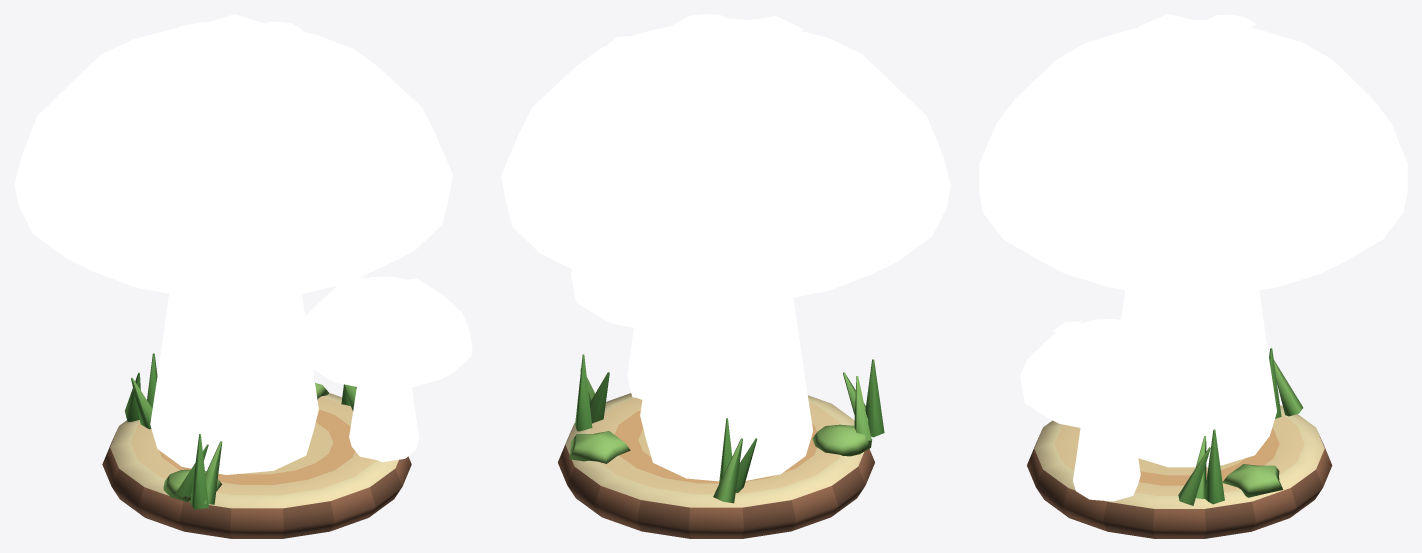
The model's file is furn-mushroomLamp.glb.
The picture shows the model from 3 angles, left to right: view 1: azimuth 30°, elevation 25°; view 2: azimuth 150°, elevation 25°; view 3: azimuth 270°, elevation 25°; orthographic projection. The views are drawn at different scales.
Parts seen in each view (by area): view 1: furn-mushroomLamp; view 2: furn-mushroomLamp; view 3: furn-mushroomLamp.
Part boxes in pixels (x1=…): furn-mushroomLamp: x1=14, y1=14, x2=472, y2=538; furn-mushroomLamp: x1=501, y1=14, x2=950, y2=538; furn-mushroomLamp: x1=979, y1=14, x2=1407, y2=538.
Size of the model in its own units: 0.3418 by 0.3758 by 0.3418.
